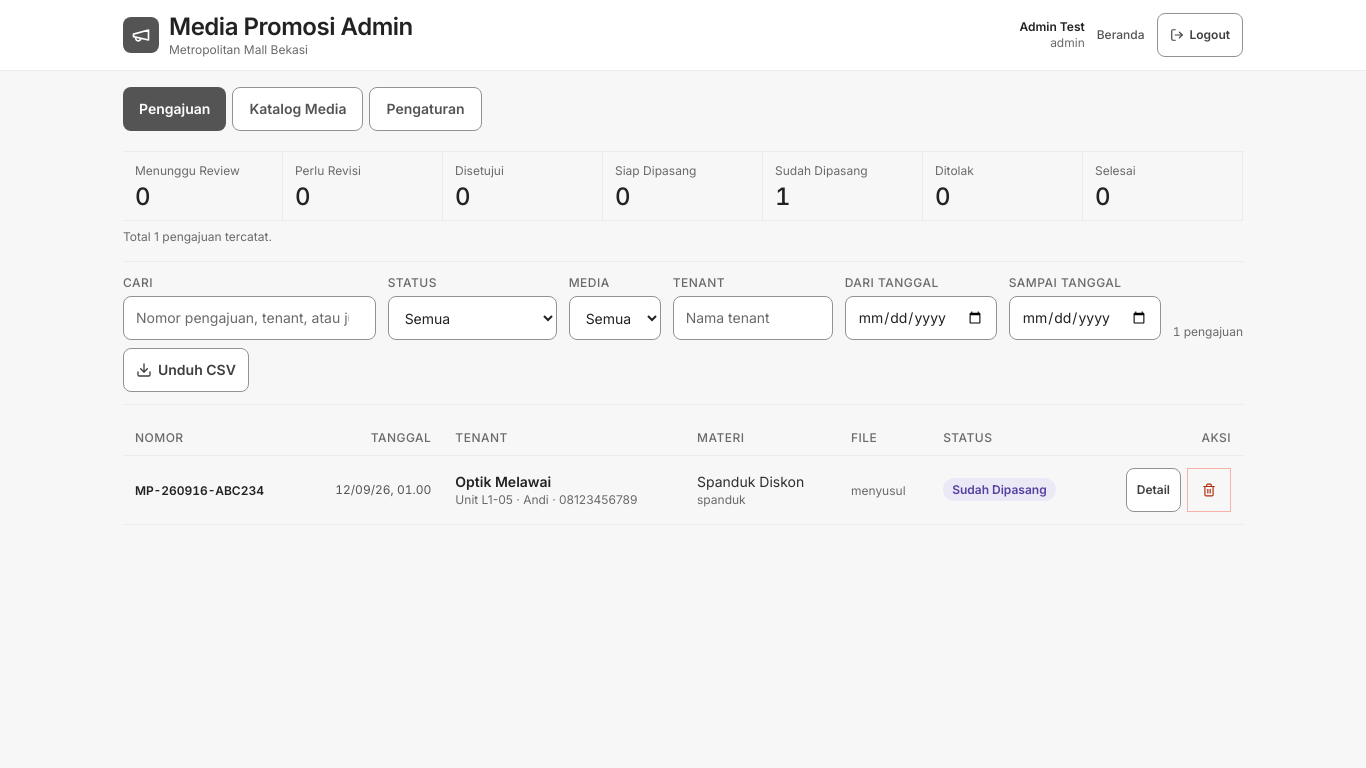
AdminDashboardPage - bukti tayang kanal unggahan › tanpa bukti → tidak ada baris bukti kosong
Expected: the text "Optik Melawai" is shown, 455,472 -> 551,490
Click the button "Detail": click(1153, 490) 1126,468 -> 1181,512
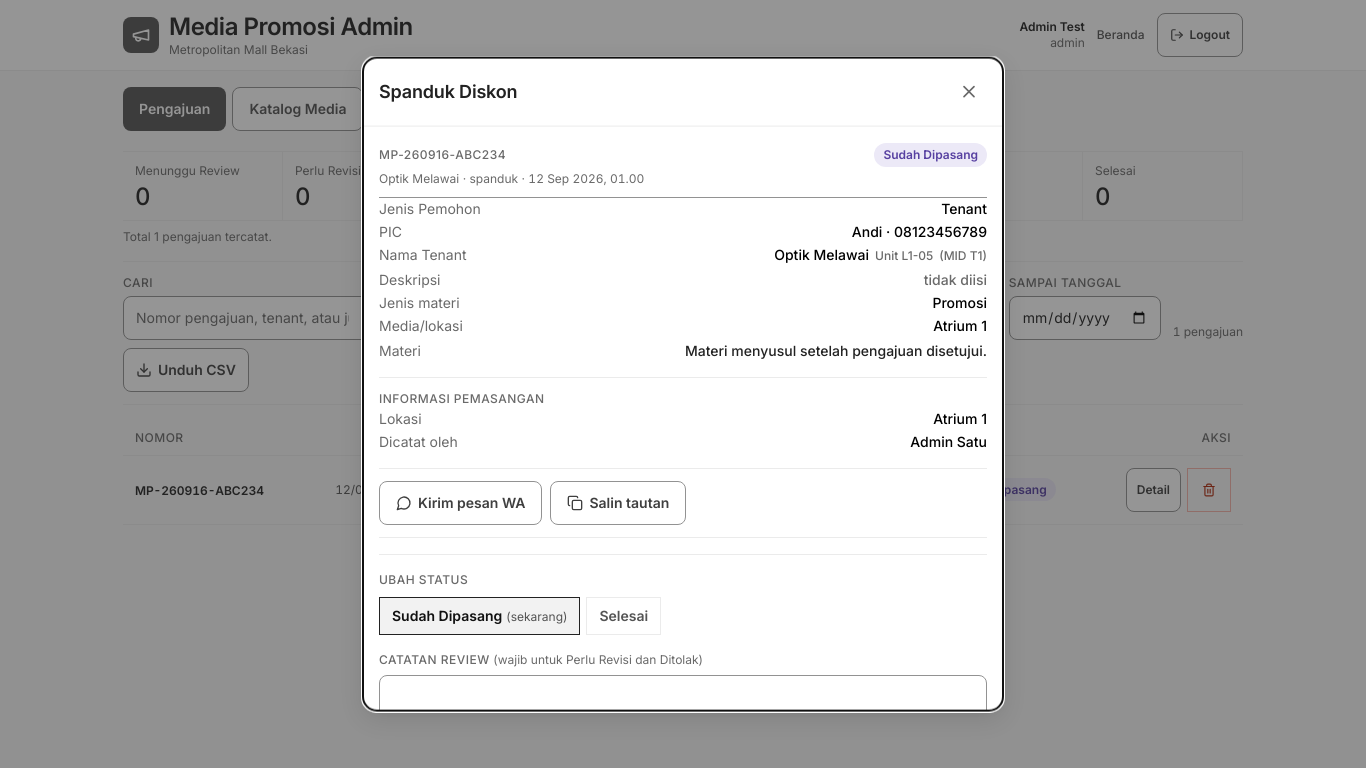
Now the text "Informasi pemasangan" is shown, box 379,391 -> 544,406
Now the 2nd text "Atrium 1" is shown, box 933,408 -> 987,429
